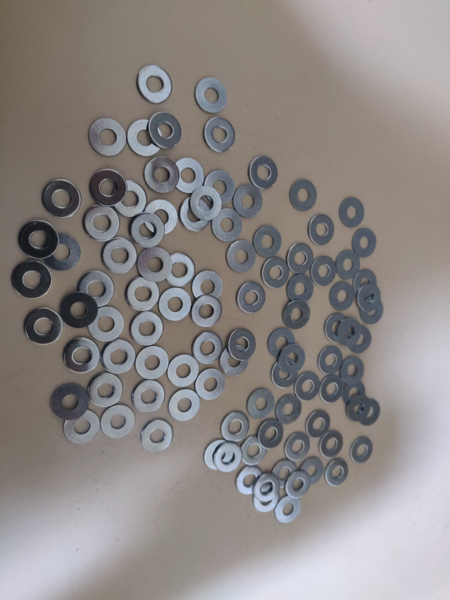circle: (87, 115, 129, 160), (40, 177, 83, 219), (19, 219, 60, 260), (12, 260, 53, 300), (42, 233, 82, 273), (89, 168, 128, 208), (24, 307, 63, 346), (127, 118, 165, 158), (110, 181, 149, 219), (60, 292, 98, 330), (83, 205, 121, 243), (50, 383, 89, 420), (61, 338, 101, 374), (86, 372, 123, 410), (137, 65, 173, 104), (102, 238, 138, 276), (79, 271, 114, 310), (147, 111, 182, 149), (88, 307, 124, 343), (136, 247, 173, 282), (203, 116, 237, 154), (98, 340, 136, 374), (63, 410, 101, 444), (195, 75, 228, 114), (130, 312, 165, 348), (178, 196, 213, 232), (130, 212, 165, 248), (125, 278, 159, 315), (100, 405, 135, 440), (131, 380, 166, 415), (144, 200, 179, 235), (283, 241, 318, 276), (172, 158, 206, 194), (163, 355, 201, 387), (135, 346, 169, 381), (202, 171, 237, 205), (189, 186, 223, 221), (162, 253, 197, 287), (210, 208, 243, 244), (145, 158, 179, 192), (193, 367, 228, 400), (190, 294, 223, 328), (192, 331, 226, 364), (160, 288, 192, 323), (169, 389, 202, 422), (191, 270, 225, 302), (141, 420, 173, 453), (233, 185, 264, 219), (290, 177, 319, 212), (308, 212, 337, 247), (261, 255, 290, 289), (221, 343, 251, 375), (249, 157, 278, 190), (238, 281, 266, 315), (339, 196, 367, 230), (267, 328, 297, 359), (221, 412, 251, 443), (235, 466, 266, 496), (254, 226, 283, 258), (214, 441, 243, 473), (271, 357, 298, 391), (230, 327, 256, 362), (282, 300, 312, 330), (203, 439, 233, 469), (229, 241, 257, 273), (278, 343, 306, 375), (248, 387, 275, 420), (323, 312, 350, 345), (335, 250, 362, 281), (241, 436, 268, 467), (352, 227, 378, 259), (329, 280, 355, 312), (252, 484, 280, 513), (311, 257, 338, 287), (287, 274, 314, 304), (254, 473, 281, 503), (299, 457, 325, 488), (355, 283, 381, 314), (272, 459, 296, 492), (275, 496, 303, 524), (275, 395, 302, 424), (317, 346, 343, 376), (337, 316, 363, 346), (347, 325, 374, 353), (306, 410, 332, 439), (339, 356, 365, 385), (295, 372, 320, 402), (319, 429, 344, 459), (353, 269, 378, 299), (285, 432, 311, 460), (341, 380, 367, 408), (360, 297, 386, 325), (259, 420, 283, 449), (347, 395, 371, 424), (319, 376, 344, 403), (286, 472, 311, 499), (350, 436, 374, 464), (357, 398, 381, 426), (326, 459, 349, 486)
